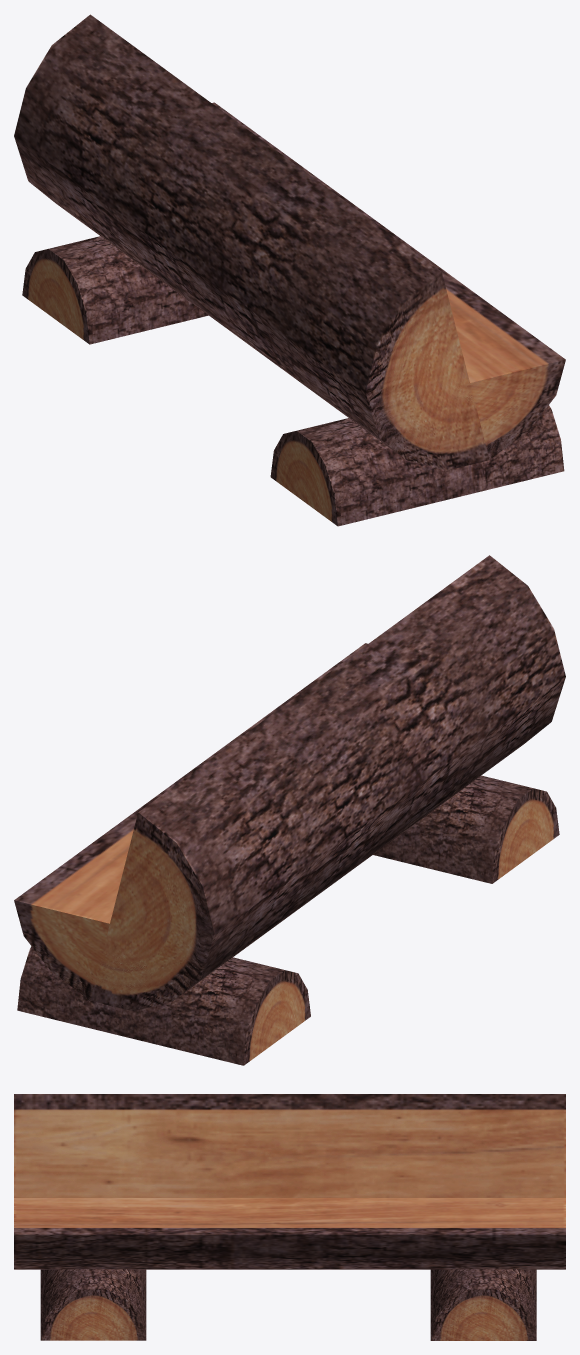
The picture shows the model from 3 angles, top to bottom: view 1: azimuth 30°, elevation 25°; view 2: azimuth 150°, elevation 25°; view 3: azimuth 270°, elevation 25°; orthographic projection. The views are drawn at different scales.
Parts seen in each view (by area): view 1: fogueira002_banco_0; view 2: fogueira002_banco_0; view 3: fogueira002_banco_0.
Part boxes in pixels (box(x1,y1,x2,y2)): fogueira002_banco_0: box(14, 14, 565, 526); fogueira002_banco_0: box(14, 555, 565, 1065); fogueira002_banco_0: box(14, 1094, 565, 1340).
Size of the model in its own units: 16.22 by 16.83 by 43.57.
1 material, 1 textured.
